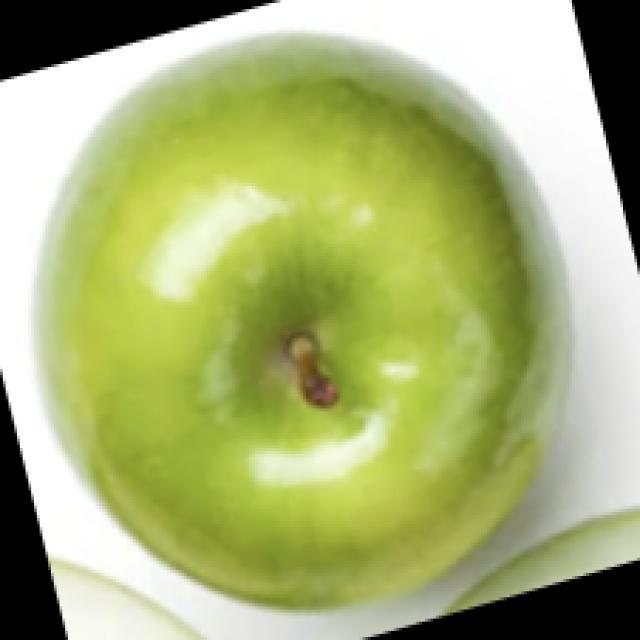Fresh Apple: (82, 36, 543, 602)
